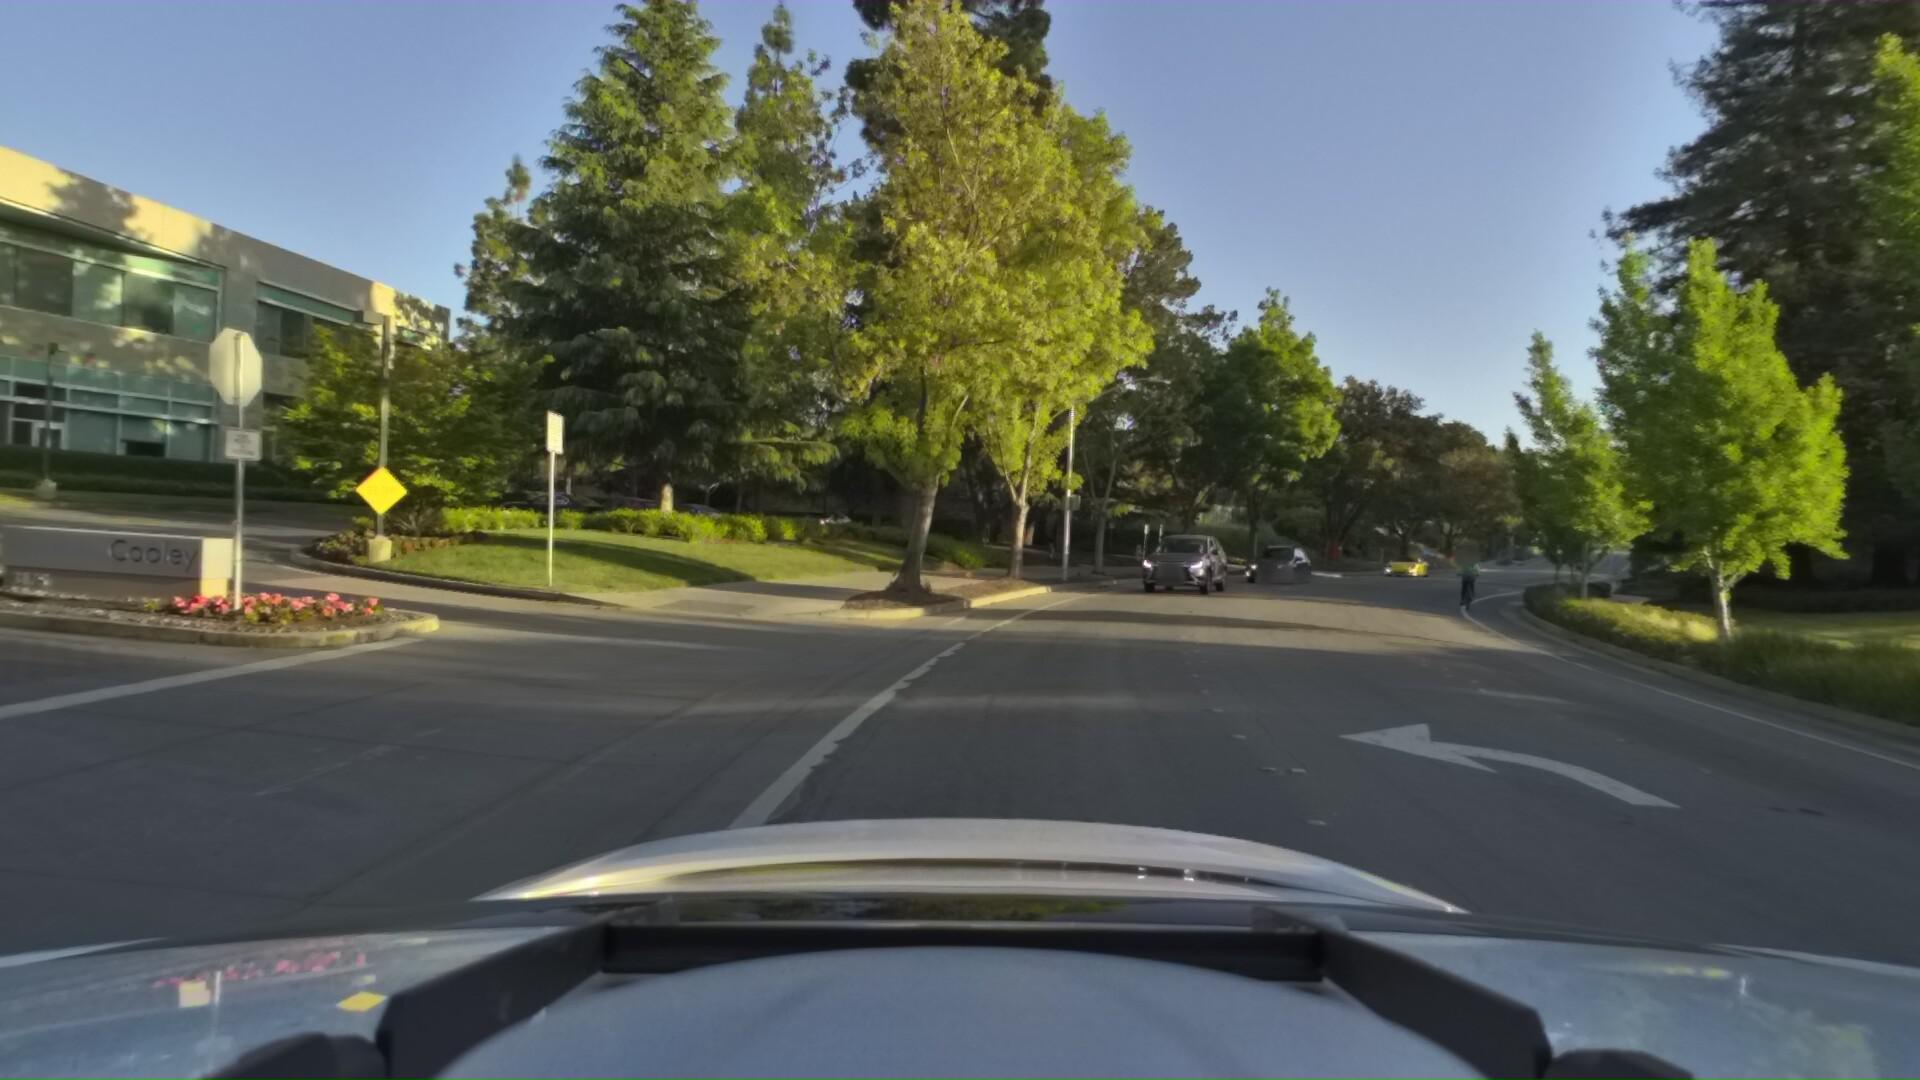bicycle: (1451, 543, 1484, 608)
car: (1131, 522, 1240, 593), (1242, 533, 1327, 583), (1375, 547, 1433, 575)
